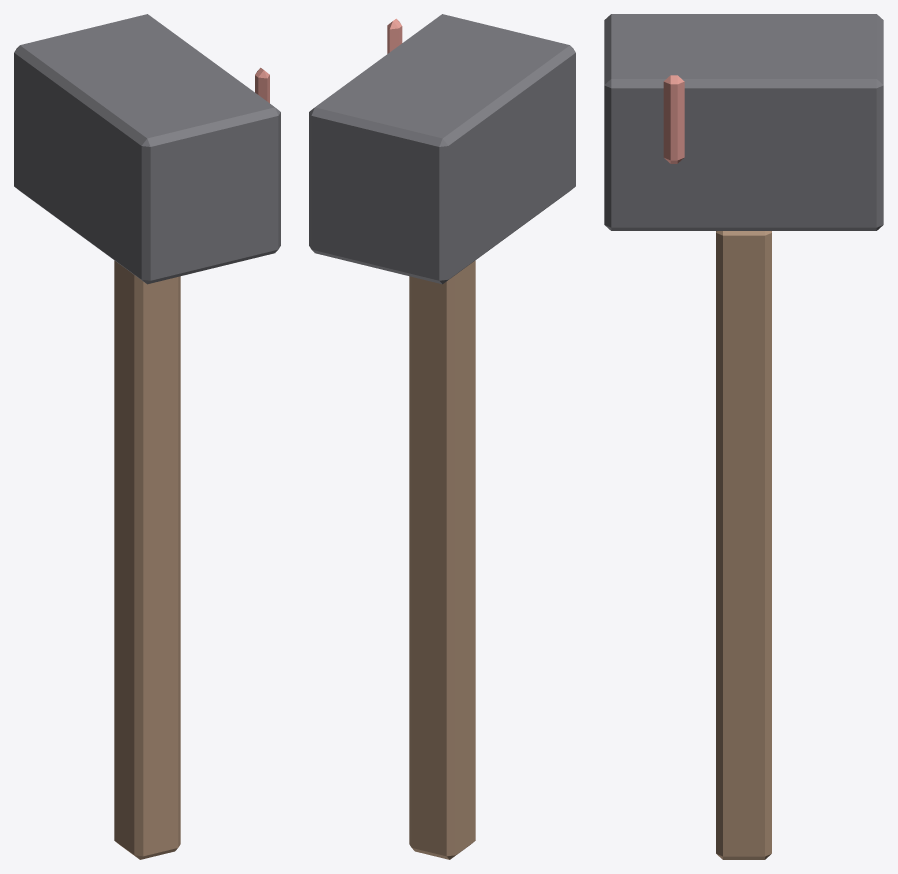
Rendered from SM_Mailbox.fbx.
3 views of the same model, side by side, from view 1: azimuth 30°, elevation 25°; view 2: azimuth 150°, elevation 25°; view 3: azimuth 270°, elevation 25° (orthographic). The views are drawn at different scales.
Parts seen in each view (by area): view 1: Mailbox; view 2: Mailbox; view 3: Mailbox.
Boxes of the visible parts, x1,y1,x2,y2 form: Mailbox: [14, 14, 280, 859]; Mailbox: [309, 14, 575, 859]; Mailbox: [604, 14, 883, 859].
Size of the model in its own units: 27 by 129 by 40.
